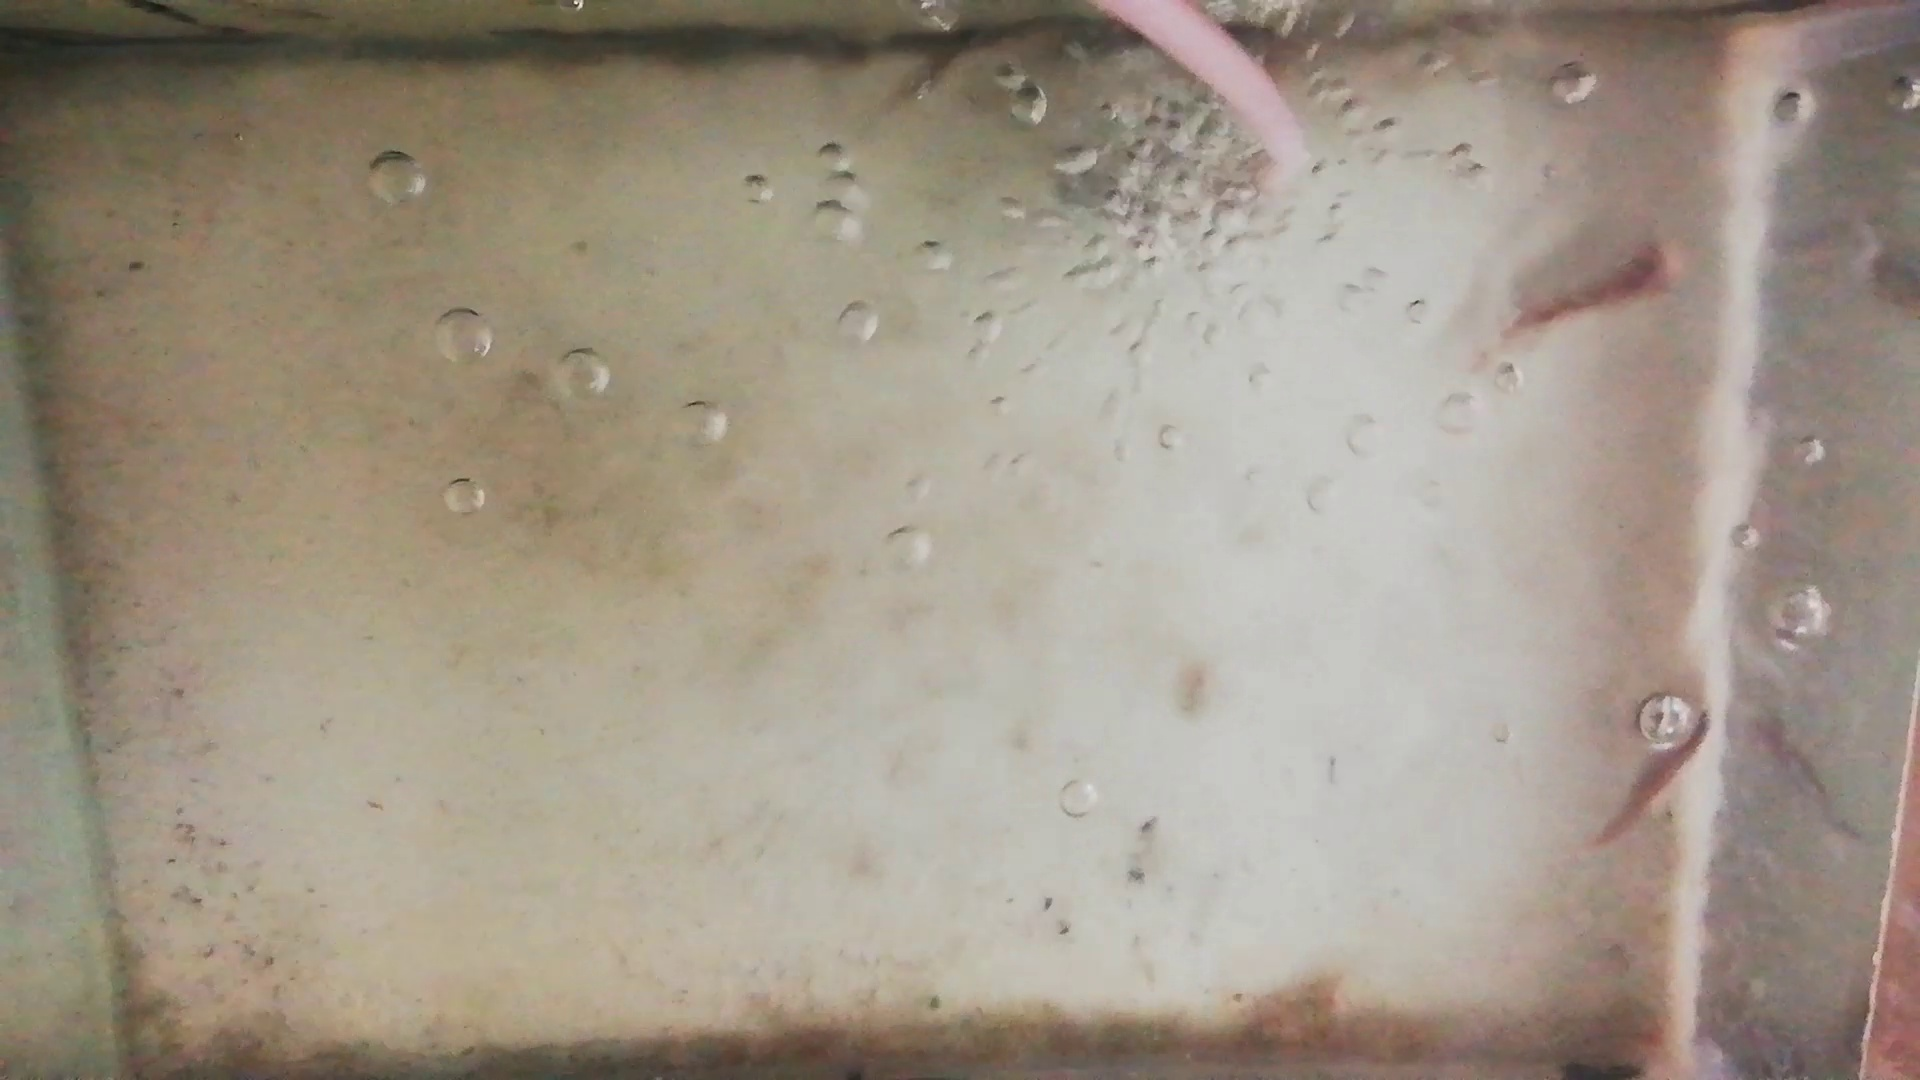fish: (1509, 244, 1680, 336), (1596, 709, 1712, 836)
